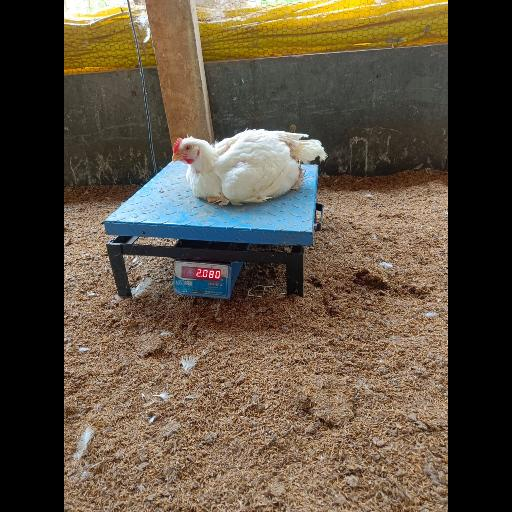chick: (172, 129, 324, 204)
